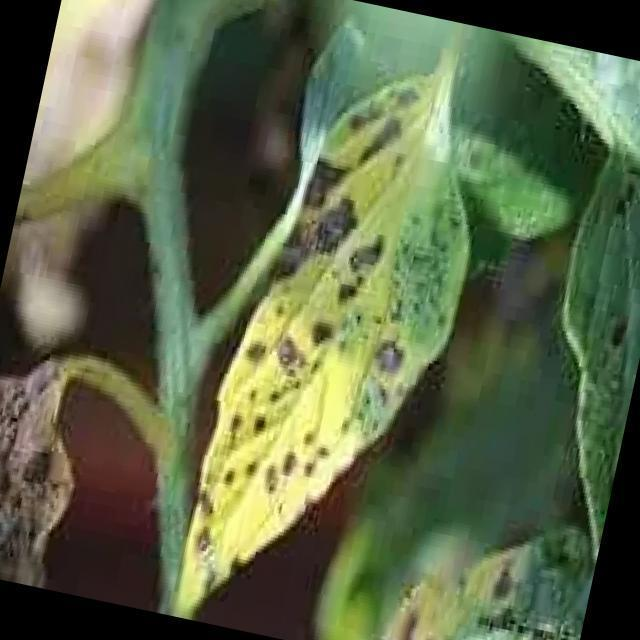Septoria: (168, 148, 465, 612)
